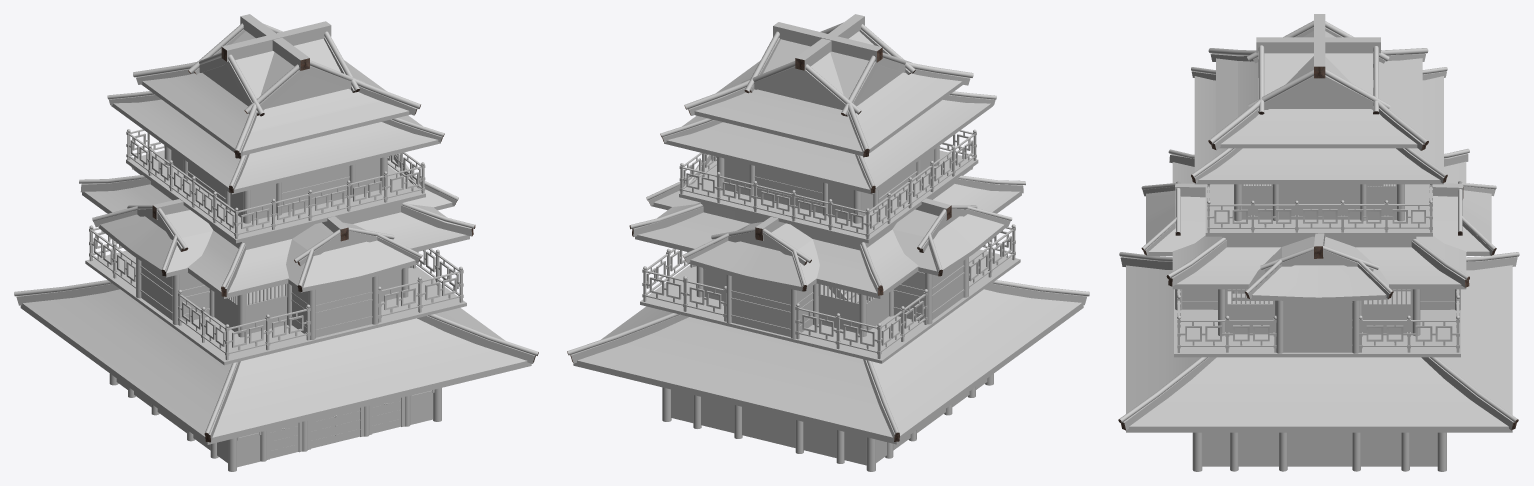
The model's file is building_10_doorless.fbx.
3 views of the same model, side by side, from view 1: azimuth 30°, elevation 25°; view 2: azimuth 150°, elevation 25°; view 3: azimuth 270°, elevation 25° (orthographic). The views are drawn at different scales.
Visible parts, largest first — view 1: polySurface22582, polySurface22582.001; view 2: polySurface22582; view 3: polySurface22582.
Part boxes in pixels (x1,y1,x2,y2): polySurface22582: (14, 14, 538, 471); polySurface22582.001: (315, 277, 372, 337); polySurface22582: (567, 14, 1089, 471); polySurface22582: (1118, 14, 1519, 471).
Bounding box in the file's own units: 2606 × 2729 × 2623.
